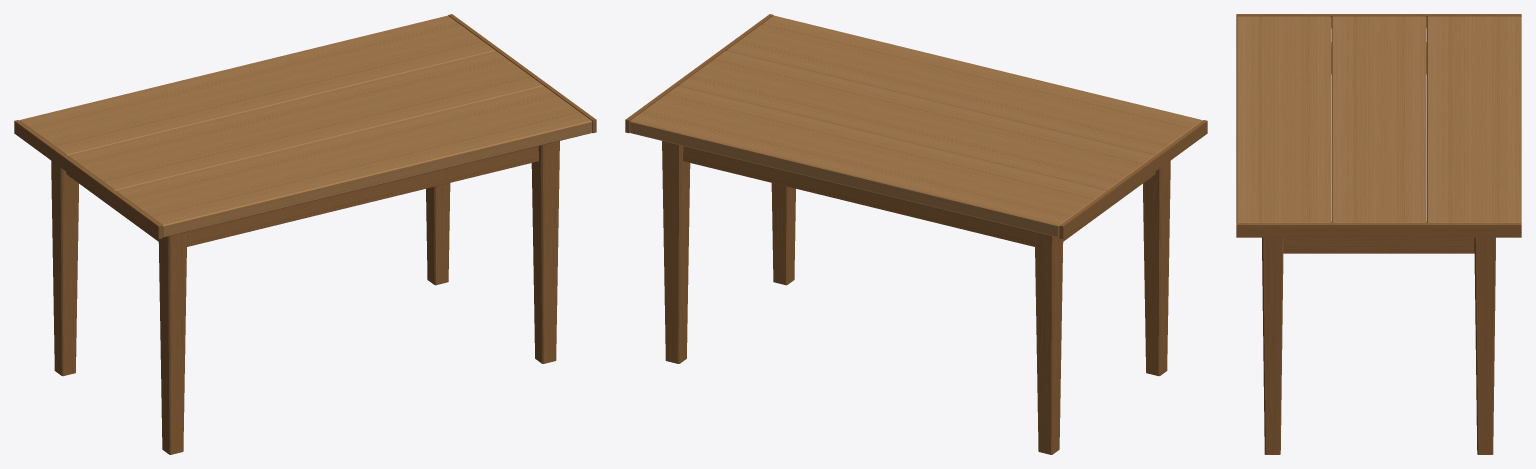
File: dining_table.glb
The picture shows the model from 3 angles, left to right: view 1: azimuth 30°, elevation 25°; view 2: azimuth 150°, elevation 25°; view 3: azimuth 270°, elevation 25°; orthographic projection.
Parts seen in each view (by area): view 1: home_dining_table; view 2: home_dining_table; view 3: home_dining_table.
Part boxes in pixels (x1=…): home_dining_table: x1=14, y1=14, x2=596, y2=454; home_dining_table: x1=625, y1=14, x2=1207, y2=454; home_dining_table: x1=1236, y1=14, x2=1521, y2=454.
Bounding box in the file's own units: 1.4 × 0.75 × 0.8.
Materials: 1 (1 with a texture image).
